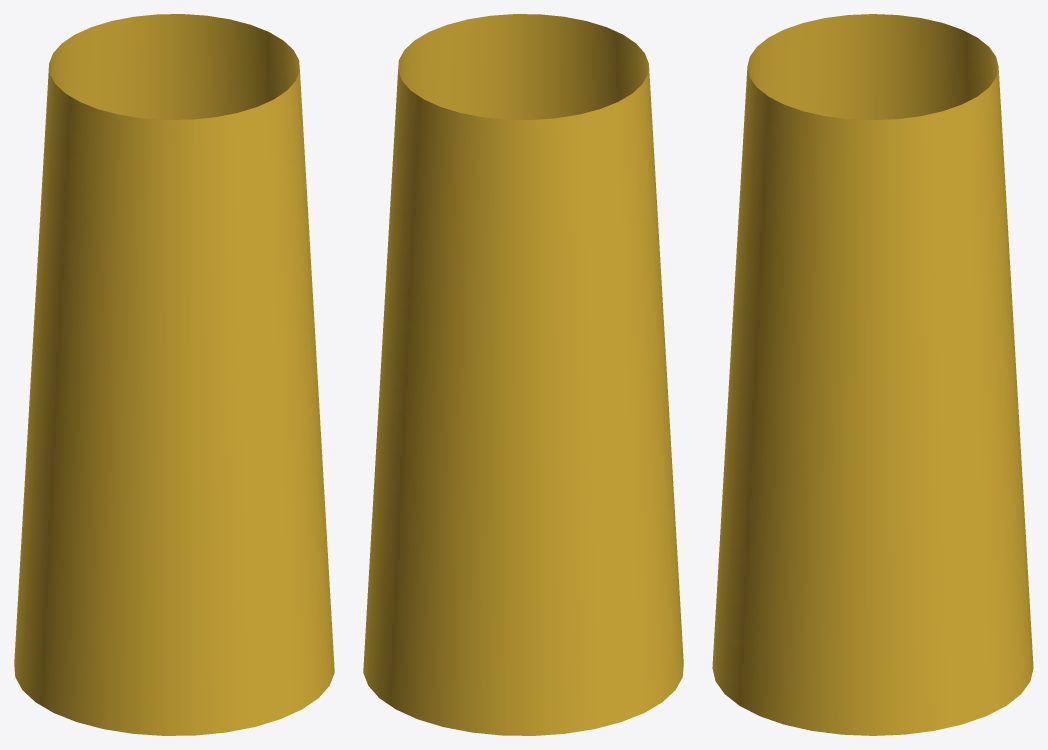
File: target_beam.glb
3 views of the same model, side by side, from view 1: azimuth 30°, elevation 25°; view 2: azimuth 150°, elevation 25°; view 3: azimuth 270°, elevation 25° (orthographic).
Parts seen in each view (by area): view 1: pv3_target_beam; view 2: pv3_target_beam; view 3: pv3_target_beam.
Boxes of the visible parts, x1,y1,x2,y2 form: pv3_target_beam: (14,14,334,735); pv3_target_beam: (363,14,683,735); pv3_target_beam: (712,14,1033,735).
Size of the model in its own units: 0.92 by 1.9 by 0.92.
